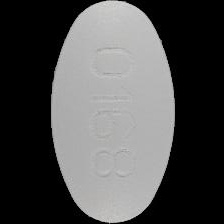68084-529: (0, 0, 224, 224)
